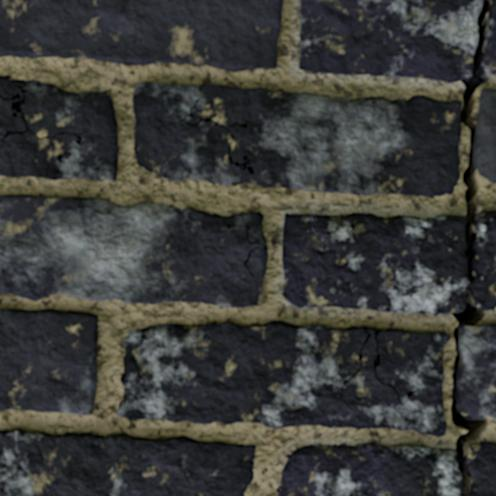brick: (117, 321, 448, 436), (133, 82, 460, 195), (0, 195, 266, 306), (0, 0, 282, 71), (0, 429, 254, 495), (0, 76, 117, 179), (0, 309, 97, 414), (459, 324, 495, 418), (475, 89, 495, 182), (367, 327, 376, 336)
broken_brick: (281, 212, 469, 315), (299, 0, 481, 83), (275, 442, 460, 495), (473, 210, 495, 310), (469, 441, 495, 495), (486, 0, 495, 75)
crack: (434, 0, 494, 495), (0, 85, 91, 163), (339, 326, 404, 406), (221, 219, 267, 279), (0, 465, 22, 495)
